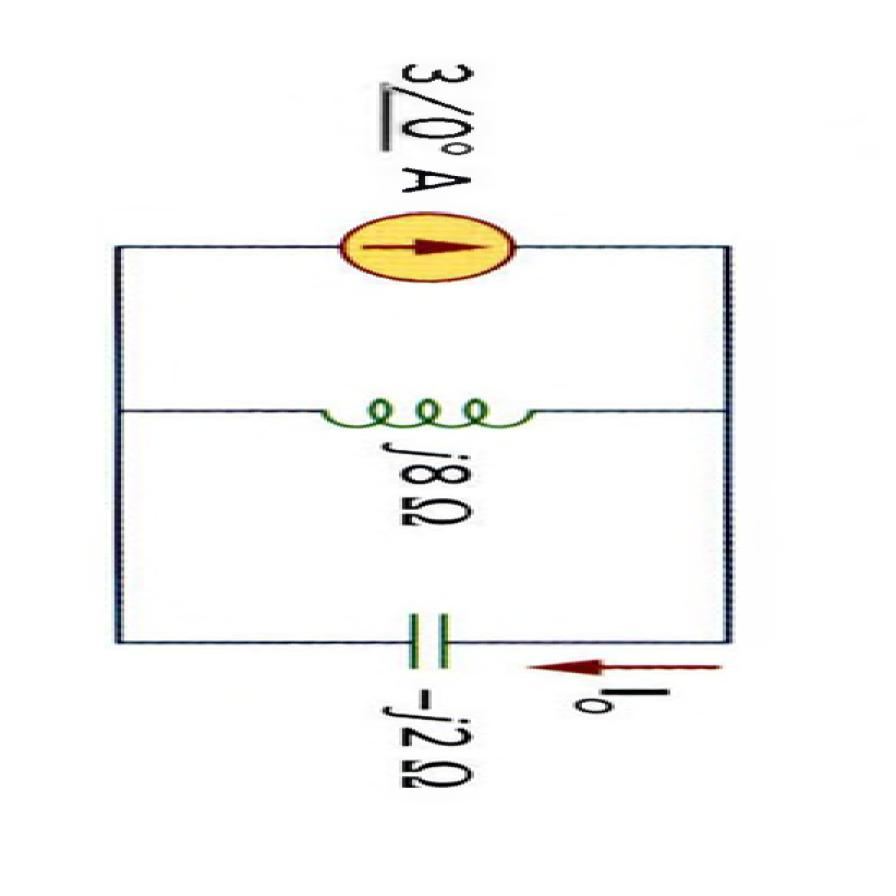C1: (369, 602, 476, 679)
I2: (310, 205, 532, 290)
L1: (271, 383, 561, 439)
